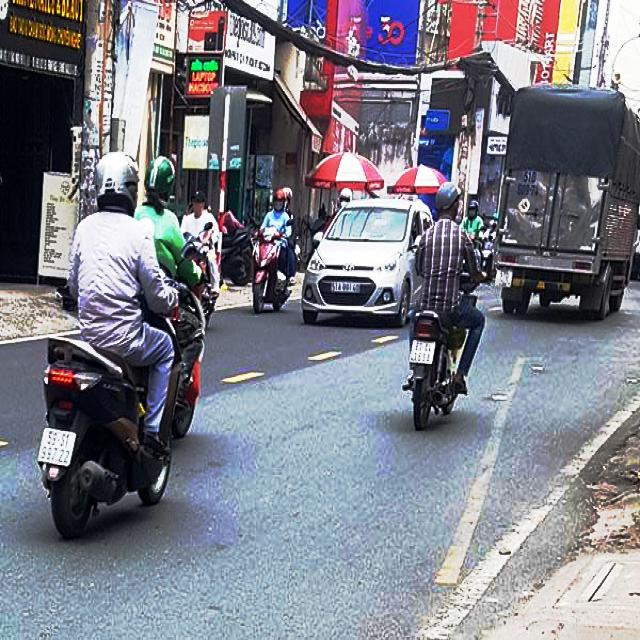license_plate: (37, 429, 79, 472)
